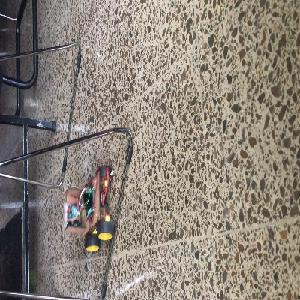Robot: (62, 165, 113, 251)
